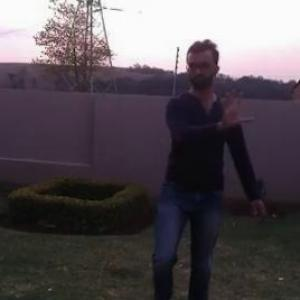follow_hand: (218, 84, 256, 131)
